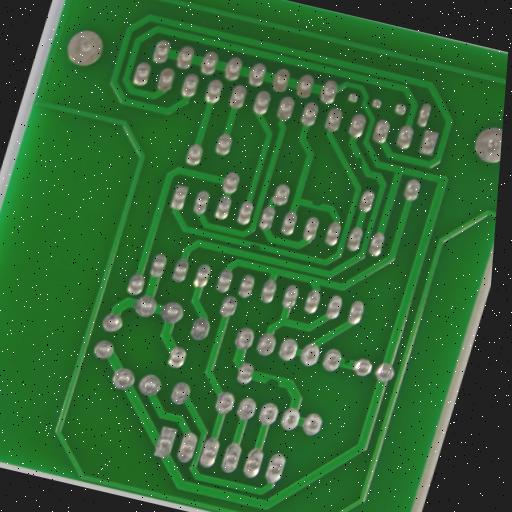mouse_bite: (261, 372, 286, 392), (347, 152, 370, 171), (306, 196, 328, 214), (338, 354, 356, 374), (245, 240, 267, 256)
